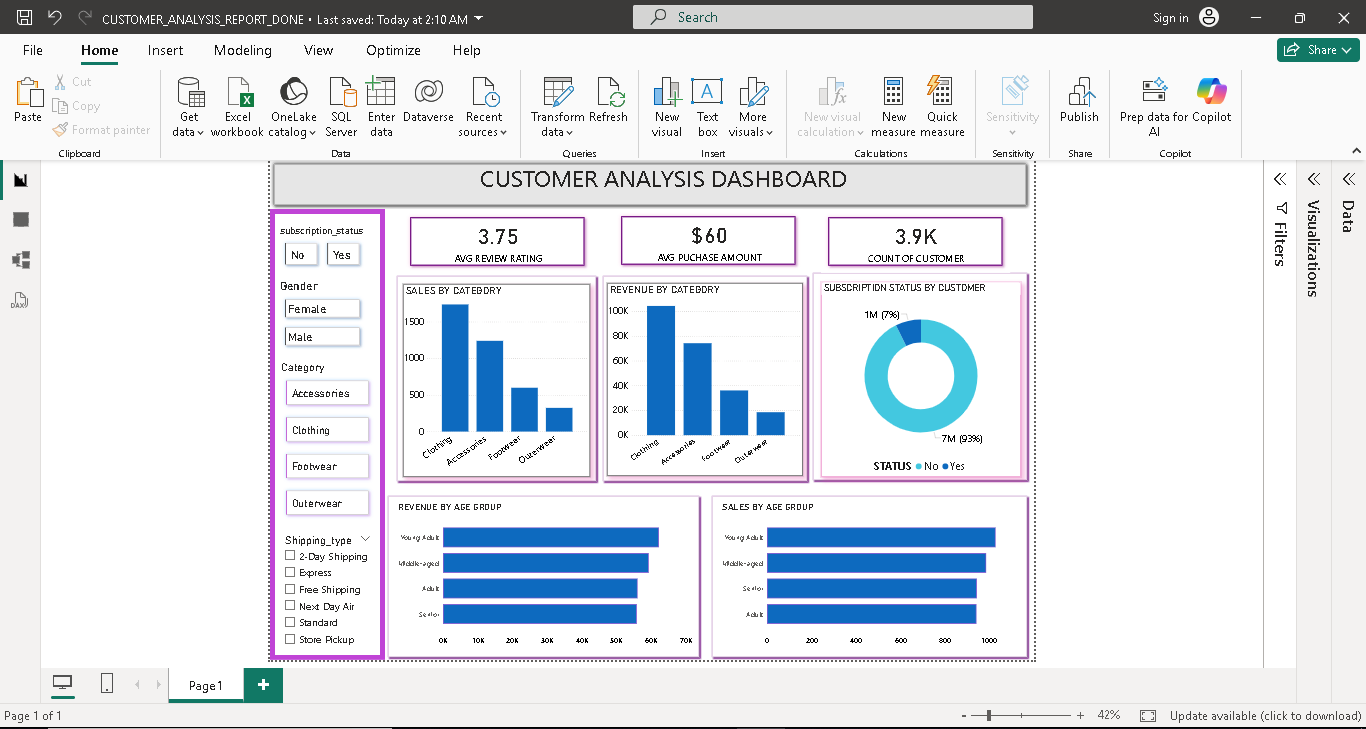

What the dashboard file says about the page in this screenshot:
{"tool":"powerbi","page":{"name":"Page 1","canvas":[1832,1200],"ordinal":0},"visuals":[{"type":"shape","box":[0,0,1824,117.6],"z":0},{"type":"textbox","box":[261.6,0,1365.6,96],"z":1000},{"type":"shape","box":[1296,264,528,511.2],"z":2000},{"type":"shape","box":[792,271.2,504,506.4],"z":3000},{"type":"shape","box":[297.6,271.2,492,506.4],"z":4000},{"type":"cardVisual","fields":{"Data":["customer_behaviour customer.COUNT OF CUSTOMER"]},"box":[1322.4,120,453.6,151.2],"z":5000},{"type":"cardVisual","fields":{"Data":["customer_behaviour customer.AVG PUCHASE AMOUNT"]},"box":[825.6,117.6,453.6,151.2],"z":6000},{"type":"cardVisual","fields":{"Data":["customer_behaviour customer.AVG REVIEW RATING"]},"box":[319.2,120,453.6,151.2],"z":7000},{"type":"donutChart","title":"SUBSCRIPTION STATUS BY CUSTOMER","fields":{"Category":["customer_behaviour customer.subscription_status"],"Y":["Sum(customer_behaviour customer.customer_id)"]},"box":[1322.4,292.8,480,468],"z":8000},{"type":"clusteredColumnChart","title":"REVENUE BY CATEGORY","fields":{"Category":["customer_behaviour customer.category"],"Y":["Sum(customer_behaviour customer.purchase_amount)"]},"box":[808.8,295.2,470.4,463.2],"z":9000},{"type":"clusteredColumnChart","title":"SALES BY CATEGORY","fields":{"Category":["customer_behaviour customer.category"],"Y":["customer_behaviour customer.COUNT OF CUSTOMER"]},"box":[319.2,297.6,448.8,463.2],"z":10000},{"type":"shape","box":[0,117.6,276,1082.4],"z":11000},{"type":"advancedSlicerVisual","fields":{"Values":["customer_behaviour customer.subscription_status"]},"box":[19.2,156,213.6,112.8],"z":12000},{"type":"advancedSlicerVisual","title":"Gender","fields":{"Values":["customer_behaviour customer.gender"]},"box":[19.2,285.6,213.6,177.6],"z":12001},{"type":"advancedSlicerVisual","title":"Category","fields":{"Values":["customer_behaviour customer.category"]},"box":[21.6,482.4,232.8,386.4],"z":12002},{"type":"slicer","fields":{"Values":["customer_behaviour customer.shipping_type"]},"box":[24,892.8,228,280.8],"z":12003},{"type":"shape","box":[276,799.2,760.8,400.8],"z":12004},{"type":"shape","box":[1053.6,799.2,770.4,400.8],"z":12005},{"type":"clusteredBarChart","title":"REVENUE BY AGE GROUP","fields":{"Y":["Sum(customer_behaviour customer.purchase_amount)"],"Category":["customer_behaviour customer.age_group"]},"box":[302.4,820.8,715.2,352.8],"z":12006},{"type":"clusteredBarChart","title":"SALES BY AGE GROUP","fields":{"Y":["customer_behaviour customer.COUNT OF CUSTOMER"],"Category":["customer_behaviour customer.age_group"]},"box":[1080,820.8,722.4,352.8],"z":12007}]}

Visuals, with their boxes on the page's 1832x1200 design canvas (x1, y1, x2, y2). These are canvas units, not pixel positions in the 1366x729 screenshot, which may show the page scaled, cropped or inside an application window:
shape: crop(0, 0, 1824, 118)
textbox: crop(262, 0, 1627, 96)
shape: crop(1296, 264, 1824, 775)
shape: crop(792, 271, 1296, 778)
shape: crop(298, 271, 790, 778)
cardVisual - customer_behaviour customer.COUNT OF CUSTOMER: crop(1322, 120, 1776, 271)
cardVisual - customer_behaviour customer.AVG PUCHASE AMOUNT: crop(826, 118, 1279, 269)
cardVisual - customer_behaviour customer.AVG REVIEW RATING: crop(319, 120, 773, 271)
"SUBSCRIPTION STATUS BY CUSTOMER" donutChart: crop(1322, 293, 1802, 761)
"REVENUE BY CATEGORY" clusteredColumnChart: crop(809, 295, 1279, 758)
"SALES BY CATEGORY" clusteredColumnChart: crop(319, 298, 768, 761)
shape: crop(0, 118, 276, 1200)
advancedSlicerVisual - customer_behaviour customer.subscription_status: crop(19, 156, 233, 269)
"Gender" advancedSlicerVisual: crop(19, 286, 233, 463)
"Category" advancedSlicerVisual: crop(22, 482, 254, 869)
slicer - customer_behaviour customer.shipping_type: crop(24, 893, 252, 1174)
shape: crop(276, 799, 1037, 1200)
shape: crop(1054, 799, 1824, 1200)
"REVENUE BY AGE GROUP" clusteredBarChart: crop(302, 821, 1018, 1174)
"SALES BY AGE GROUP" clusteredBarChart: crop(1080, 821, 1802, 1174)
